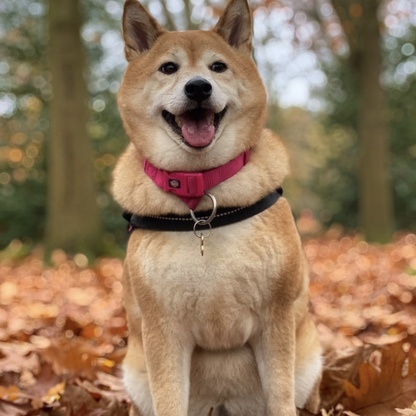shiba: (101, 1, 338, 416)
